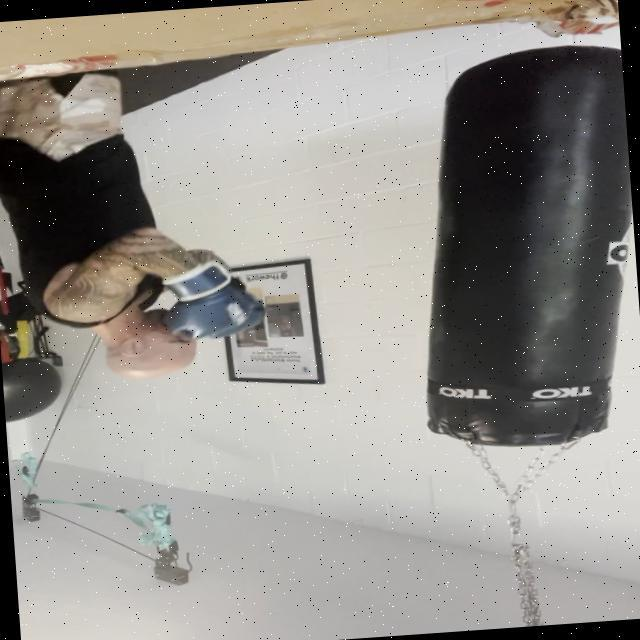bag: (401, 44, 640, 454)
no punch: (19, 221, 288, 391)
